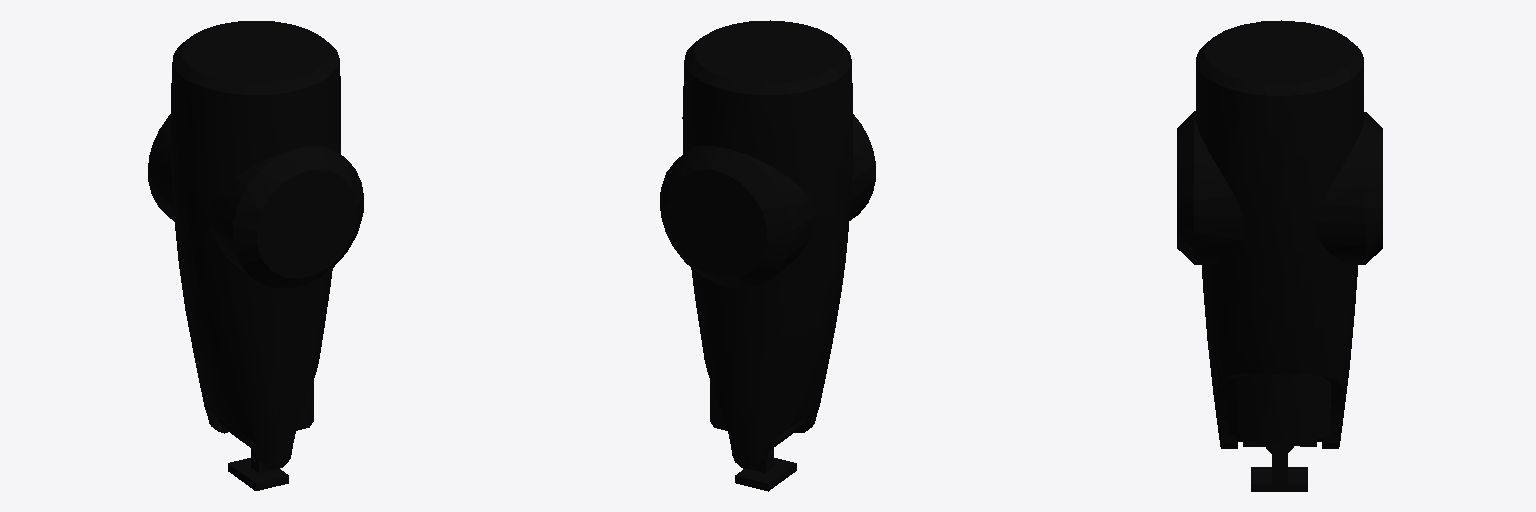
robot.urdf — igris_c_v2_parallel_right_wrist:
<?xml version="1.0"?>
<robot name="igris_c_v2_parallel_right_wrist">
  <!-- NOTE: In this model, the base link is rotated -90 degree in Z axis to align the motor axis to the Y-axis -->
  <link name="base_link">
    <inertial>
      <mass value="2.428" />
      <origin xyz="0.00453 0.00011 0.15224" />
      <inertia ixx="0.00984" ixy="0.00000" ixz="0.00001" iyy="0.00890" iyz="-0.00003" izz="0.00313" />
    </inertial>
    <visual>
      <origin xyz="0.005 0 0.2395" rpy="0 0 1.570796327"/>
      <geometry>
        <mesh filename="package://igris_c_description/meshes/igris_c_v2/Wrist_Yaw_Right.stl" scale="0.01 0.01 0.01"/>
      </geometry>
      <material name="random">
        <color rgba="0.0706 0.0706 0.0706 0.7" />
      </material>
    </visual>
    <collision>
      <origin xyz="0.005 0 0.2395" rpy="0 0 1.570796327"/>
      <geometry>
        <mesh filename="package://igris_c_description/meshes/igris_c_v2/Wrist_Yaw_Right.stl" scale="0.01 0.01 0.01"/>
      </geometry>
    </collision>
  </link>

  <link name="p_link_1">
    <inertial>
      <mass value="0.012" />
      <origin xyz="0.00604 0.00000 0.00031" />
      <inertia ixx="0.00001" ixy="0.00000" ixz="0.00000" iyy="0.00001" iyz="0.00000" izz="0.00001" />
    </inertial>
    <visual>
      <origin xyz="0 0 0" rpy="0 0 1.570796327"/>
      <geometry>
        <mesh filename="package://igris_c_description/meshes/igris_c_v2/Wrist_Roll_Right.stl" scale="0.01 0.01 0.01"/>
      </geometry>
      <material name="random">
        <color rgba="0.0706 0.0706 0.0706 0.7" />
      </material>
    </visual>
    <collision>
      <geometry>
        <mesh filename="package://igris_c_description/meshes/igris_c_v2/Wrist_Roll_Right.stl" scale="0.01 0.01 0.01"/>
      </geometry>
    </collision>
  </link>

  <link name="p_link_2">
    <inertial>
      <mass value="0.020" />
      <origin xyz="0.01019 0.00000 -0.01687" />
      <inertia ixx="0.00001" ixy="0.00000" ixz="0.00000" iyy="0.00001" iyz="0.00000" izz="0.00001" />
    </inertial>
    <visual>
      <origin xyz="0 0 0" rpy="0 0 1.570796327"/>
      <geometry>
        <mesh filename="package://igris_c_description/meshes/igris_c_v2/Wrist_Pitch_Right.stl" scale="0.01 0.01 0.01"/>
      </geometry>
      <material name="random">
        <color rgba="0.0706 0.0706 0.0706 0.7" />
      </material>
    </visual>
    <collision>
      <geometry>
        <mesh filename="package://igris_c_description/meshes/igris_c_v2/Wrist_Pitch_Right.stl" scale="0.01 0.01 0.01"/>
      </geometry>
    </collision>
  </link>

  <link name="motor_1_output">
    <inertial>
      <mass value="0.009" />
      <origin xyz="0.01879 -0.00357 0.00461" />
      <inertia ixx="0.00001" ixy="0.00000" ixz="0.00000" iyy="0.00001" iyz="0.00000" izz="0.00001" />
    </inertial>
    <visual>
      <origin xyz="0 0 0" rpy="0 0 1.570796327"/>
      <geometry>
        <mesh filename="package://igris_c_description/meshes/igris_c_v2/Wrist_Flange_Front_Right.stl" scale="0.01 0.01 0.01"/>
      </geometry>
      <material name="random">
        <color rgba="0.0706 0.0706 0.0706 0.7" />
      </material>
    </visual>
    <collision>
      <geometry>
        <mesh filename="package://igris_c_description/meshes/igris_c_v2/Wrist_Flange_Front_Right.stl" scale="0.01 0.01 0.01"/>
      </geometry>
    </collision>
  </link>
  
  <link name="motor_2_output">
    <inertial>
      <mass value="0.009" />
      <origin xyz="0.01879 0.00357 0.00461" />
      <inertia ixx="0.00001" ixy="0.00000" ixz="0.00000" iyy="0.00001" iyz="0.00000" izz="0.00001" />
    </inertial>
    <visual>
      <origin xyz="0 0 0" rpy="0 0 1.570796327"/>
      <geometry>
        <mesh filename="package://igris_c_description/meshes/igris_c_v2/Wrist_Flange_Back_Right.stl" scale="0.01 0.01 0.01"/>
      </geometry>
      <material name="random">
        <color rgba="0.0706 0.0706 0.0706 0.7" />
      </material>
    </visual>
    <collision>
      <geometry>
        <mesh filename="package://igris_c_description/meshes/igris_c_v2/Wrist_Flange_Back_Right.stl" scale="0.01 0.01 0.01"/>
      </geometry>
    </collision>
  </link>

  <joint name="joint_1" type="revolute">
    <parent link="base_link" />
    <child link="p_link_1" />
    <origin xyz="0 0 0" rpy="0 0 0" />
    <axis xyz="0 1 0"/>
    <limit lower="-0.872664626" upper="1.221730476" effort="1000" velocity="100.0" />
  </joint>

  <joint name="joint_2" type="revolute">
    <parent link="p_link_1" />
    <child link="p_link_2" />
    <origin xyz="0 0 0" rpy="0 0 0" />
    <axis xyz="-1 0 0" />
    <limit lower="-0.698131701" upper="0.698131701" effort="1000" velocity="100.0" />
  </joint>

  <joint name="motor_1" type="revolute">
    <parent link="base_link" />
    <child link="motor_1_output" />
    <origin xyz="-0.004341 0.02000 0.02462" rpy="0 0 0" />
    <axis xyz="0 1 0" />
    <limit lower="-1.570796327" upper="1.570796327" effort="1000" velocity="100.0" />
  </joint>

  <joint name="motor_2" type="revolute">
    <parent link="base_link" />
    <child link="motor_2_output" />
    <origin xyz="-0.004341 -0.02000 0.02462" rpy="0 0 0" />
    <axis xyz="0 1 0" />
    <limit lower="-1.570796327" upper="1.570796327" effort="1000" velocity="100.0" />
  </joint>
</robot>

--- What the picture shows (computed from the rendered views, not written in the file) ---
The picture shows the robot from 3 angles, left to right: view 1: azimuth 30°, elevation 25°; view 2: azimuth 150°, elevation 25°; view 3: azimuth 270°, elevation 25°; orthographic projection.
Robot: igris_c_v2_parallel_right_wrist — 5 links, 4 joints (4 revolute); root link base_link; default pose: every joint at zero.
Links seen in each view (by area): view 1: base_link, p_link_2; view 2: base_link, p_link_2; view 3: base_link, p_link_2.
Link boxes in pixels (<box>): base_link: <box>148,21,363,469</box>; p_link_2: <box>228,449,288,490</box>; base_link: <box>660,20,875,469</box>; p_link_2: <box>735,448,796,491</box>; base_link: <box>1177,20,1382,448</box>; p_link_2: <box>1251,444,1307,491</box>.
Size in the robot's own frame: 0.0987 by 0.117 by 0.2686 metres.
3 mesh visuals loaded from 5 distinct referenced files (3 binary STL); not drawn: 2 (reference not matched to a file when rendering).
